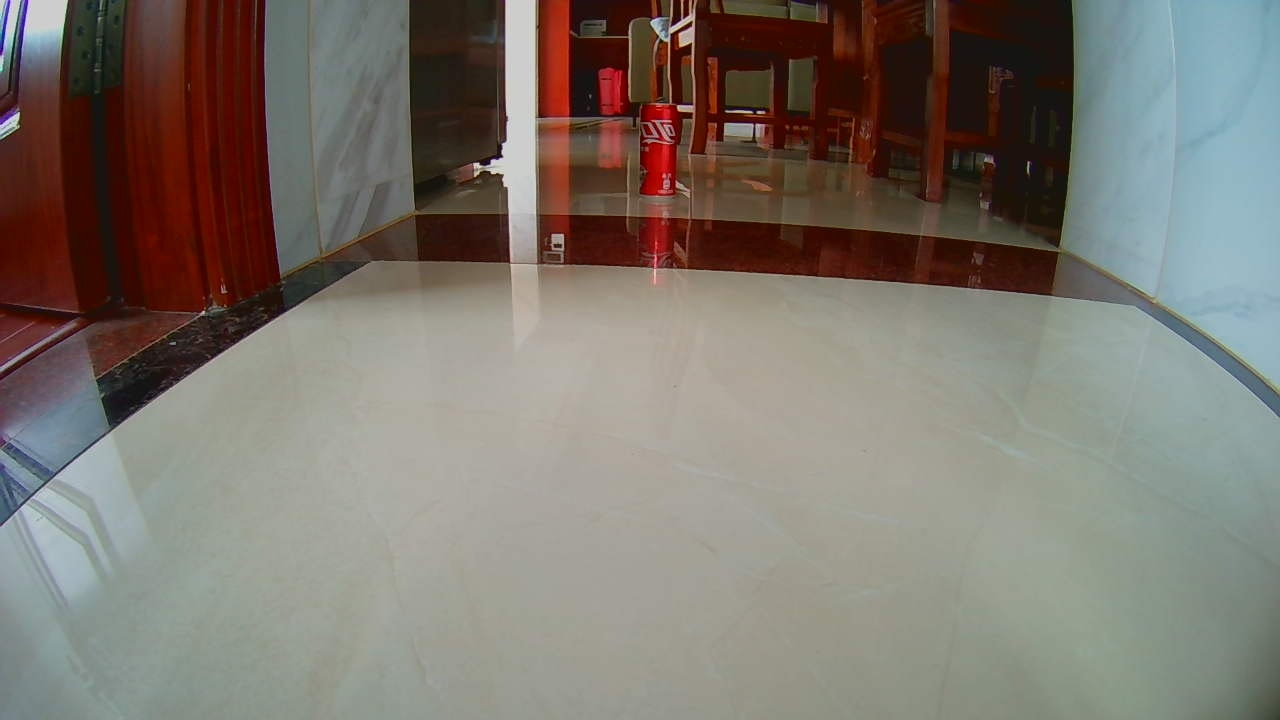cola: (638, 101, 680, 207)
